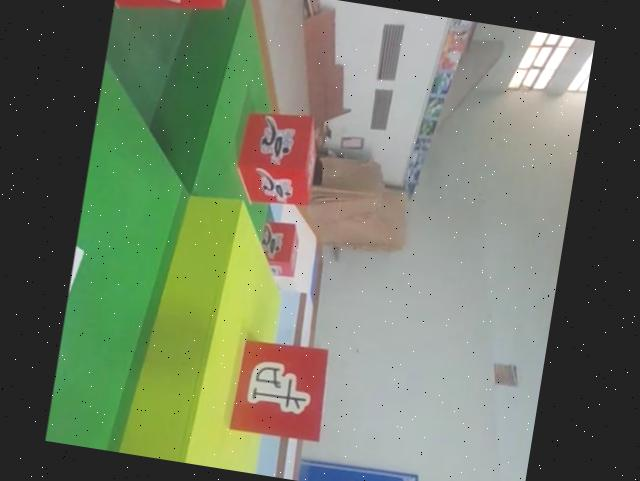R1: (226, 103, 328, 210), (253, 213, 305, 280), (113, 0, 241, 25)
R2 Real: (224, 332, 337, 445)
